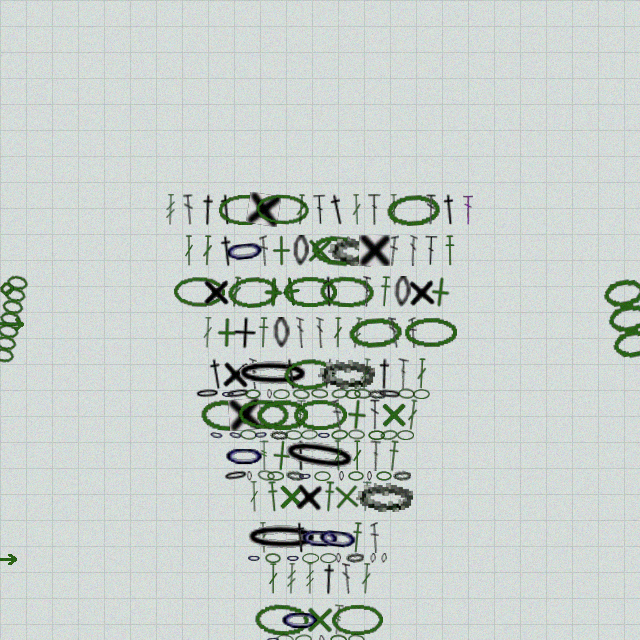chain: (279, 435, 360, 477), (243, 522, 321, 554), (234, 358, 312, 390), (310, 233, 365, 269), (328, 234, 386, 267), (348, 316, 402, 350), (386, 193, 440, 227), (254, 603, 309, 636), (319, 275, 374, 308), (200, 398, 253, 432), (283, 357, 336, 391), (227, 275, 280, 309), (255, 193, 309, 226), (356, 481, 413, 512), (318, 358, 375, 389), (237, 398, 290, 431), (293, 399, 347, 430), (283, 276, 337, 307), (173, 276, 225, 308), (315, 520, 361, 556), (404, 317, 457, 348), (218, 194, 271, 225), (331, 604, 383, 635), (256, 399, 308, 430), (222, 233, 267, 268), (298, 521, 342, 554), (279, 604, 322, 635), (223, 440, 266, 471), (273, 317, 290, 348), (394, 276, 411, 307), (293, 235, 309, 266), (223, 469, 249, 482), (225, 387, 251, 400), (377, 388, 402, 400), (195, 388, 220, 399), (257, 469, 275, 482), (380, 429, 398, 441), (292, 388, 310, 400), (346, 552, 364, 563), (286, 470, 304, 481), (393, 470, 411, 481), (331, 388, 349, 399), (240, 429, 257, 440), (301, 429, 318, 440), (331, 429, 348, 440), (348, 429, 365, 440), (311, 388, 328, 399), (354, 388, 371, 399), (398, 388, 415, 399), (209, 429, 224, 441), (228, 429, 243, 441), (270, 430, 288, 440), (368, 389, 386, 399), (302, 553, 319, 563), (320, 553, 337, 563), (267, 471, 284, 481), (314, 471, 331, 481), (285, 430, 302, 440), (368, 430, 385, 440), (397, 430, 414, 440), (273, 389, 290, 399), (413, 389, 430, 399), (265, 553, 281, 563), (348, 471, 364, 481), (376, 471, 392, 481), (245, 389, 261, 399), (345, 389, 361, 399), (254, 429, 268, 440), (247, 553, 261, 563), (286, 553, 300, 563), (298, 471, 312, 481), (317, 430, 331, 440), (221, 389, 235, 399), (276, 634, 294, 640), (295, 634, 312, 640), (330, 634, 347, 640), (348, 634, 365, 640), (266, 635, 280, 640), (370, 553, 376, 563), (381, 553, 387, 563), (336, 553, 341, 563), (247, 471, 252, 481), (339, 471, 344, 481), (367, 471, 372, 481), (267, 389, 272, 399), (319, 635, 325, 640)
double: (229, 276, 243, 308), (424, 235, 438, 266), (313, 194, 327, 225), (406, 399, 419, 431), (359, 358, 372, 390), (331, 399, 344, 430), (368, 194, 381, 225), (360, 563, 372, 594), (369, 440, 381, 471), (397, 358, 409, 389), (183, 194, 195, 225), (295, 194, 307, 225), (258, 522, 269, 553), (416, 358, 427, 389), (202, 317, 213, 348), (388, 317, 399, 348), (202, 235, 213, 266), (388, 235, 399, 266), (351, 194, 362, 225), (268, 563, 278, 594), (370, 522, 380, 553), (249, 481, 259, 512), (333, 440, 343, 471), (352, 440, 362, 471), (370, 399, 380, 430), (333, 317, 343, 348), (408, 317, 418, 348), (361, 276, 371, 307), (184, 235, 194, 266), (259, 235, 269, 266), (408, 235, 418, 266), (389, 194, 399, 225), (426, 194, 436, 225), (463, 194, 473, 225), (342, 563, 351, 594), (249, 358, 258, 389), (296, 317, 305, 348), (316, 317, 324, 348)
enseble_chain: (598, 275, 640, 365), (0, 274, 30, 365)
half_double: (326, 193, 349, 226), (206, 358, 227, 390), (281, 358, 302, 390), (319, 563, 339, 595), (217, 235, 237, 267), (198, 194, 218, 226), (375, 358, 394, 390), (291, 522, 310, 553), (217, 194, 236, 225), (440, 194, 459, 225), (292, 440, 310, 471), (320, 276, 338, 307), (386, 440, 401, 472), (350, 522, 364, 553), (266, 481, 280, 512), (322, 481, 336, 512), (378, 276, 392, 307), (257, 317, 270, 348), (444, 235, 456, 266)
noise: (0, 317, 26, 331), (0, 280, 15, 297), (0, 554, 19, 565)
single: (274, 274, 309, 309), (246, 192, 281, 227), (423, 275, 457, 309), (330, 480, 363, 513), (265, 439, 298, 472), (228, 398, 261, 431), (340, 398, 373, 431), (257, 276, 289, 308), (294, 480, 325, 513), (304, 604, 335, 635), (276, 481, 307, 512), (378, 399, 409, 430), (211, 317, 242, 348), (266, 235, 297, 266), (304, 235, 335, 266), (359, 235, 390, 266), (221, 358, 251, 390), (407, 276, 437, 308), (202, 276, 231, 307), (232, 317, 257, 349), (319, 358, 338, 390)
treble: (350, 317, 364, 349), (331, 604, 345, 635), (294, 399, 307, 430), (360, 481, 372, 512), (286, 563, 297, 594), (165, 194, 176, 225), (305, 563, 315, 594), (259, 440, 269, 471)
